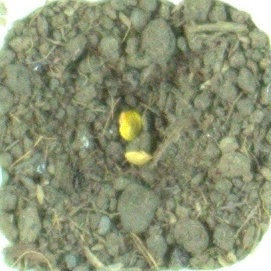chilli seed: (115, 108, 146, 141), (122, 148, 155, 168)
